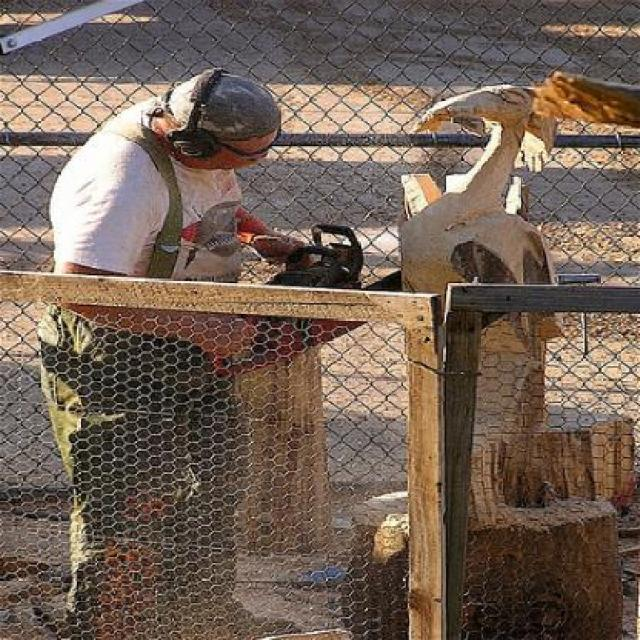Chainsaw: (206, 222, 400, 384)
